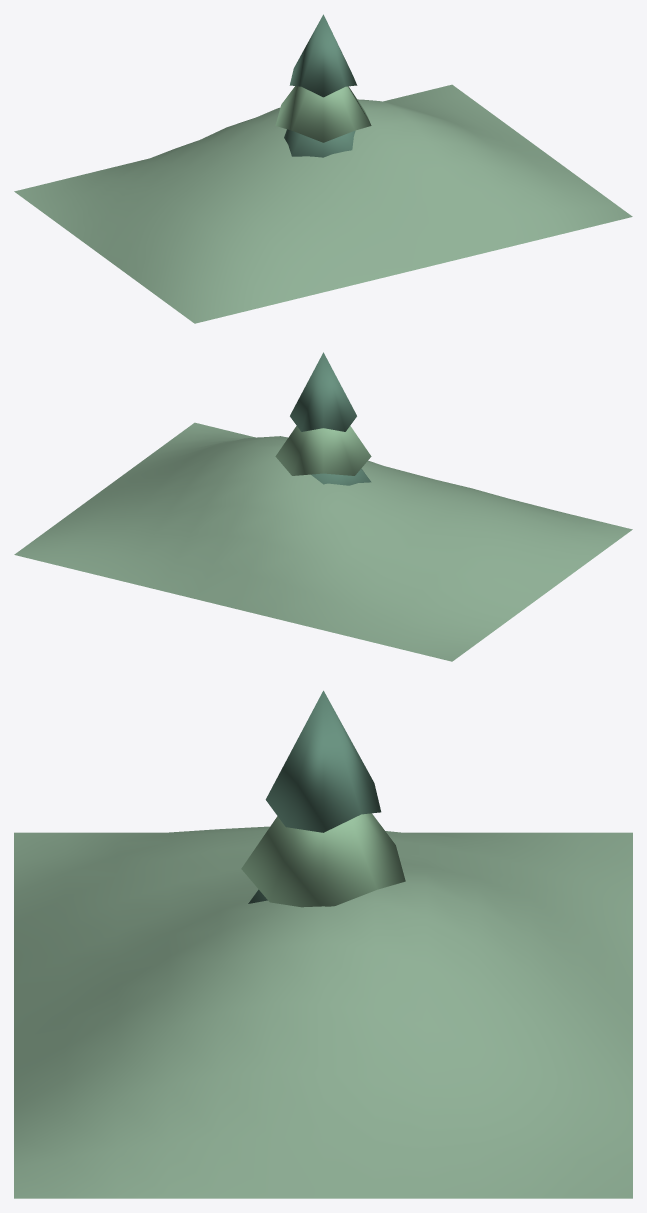
File: golden_launch_import.fbx
3 views of the same model, one above another, from view 1: azimuth 30°, elevation 25°; view 2: azimuth 150°, elevation 25°; view 3: azimuth 270°, elevation 25° (orthographic). The views are drawn at different scales.
Parts seen in each view (by area): view 1: GS_MossBank_GrassMeadow, GS_ReservePine_ForestDeep, GS_ReservePine_LeafGreen; view 2: GS_MossBank_GrassMeadow, GS_ReservePine_LeafGreen, GS_ReservePine_ForestDeep; view 3: GS_MossBank_GrassMeadow, GS_ReservePine_LeafGreen, GS_ReservePine_ForestDeep.
Boxes of the visible parts, x1,y1,x2,y2 form: GS_MossBank_GrassMeadow: (14, 84, 632, 323); GS_ReservePine_ForestDeep: (284, 14, 357, 157); GS_ReservePine_LeafGreen: (275, 86, 371, 142); GS_MossBank_GrassMeadow: (14, 422, 632, 661); GS_ReservePine_LeafGreen: (275, 426, 371, 475); GS_ReservePine_ForestDeep: (290, 352, 371, 485); GS_MossBank_GrassMeadow: (14, 826, 632, 1198); GS_ReservePine_LeafGreen: (241, 813, 405, 907); GS_ReservePine_ForestDeep: (248, 690, 381, 903).
Size of the model in its own units: 2800 by 1160 by 2000.
